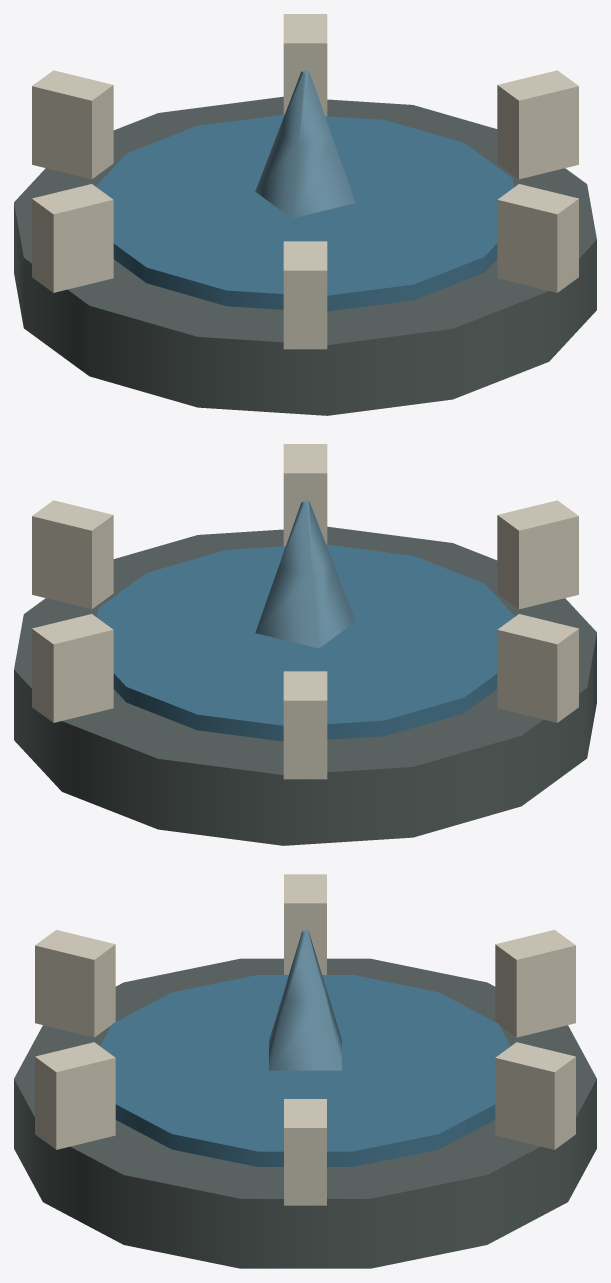
Rendered from node_ling_quan.glb.
3 renders of one model, top to bottom at view 1: azimuth 30°, elevation 25°; view 2: azimuth 150°, elevation 25°; view 3: azimuth 270°, elevation 25°, orthographic.
Visible parts, largest first — view 1: _MeshInstance3D_322, _MeshInstance3D_323, _MeshInstance3D_330, _MeshInstance3D_325, _MeshInstance3D_327, _MeshInstance3D_324, _MeshInstance3D_328, _MeshInstance3D_326, _MeshInstance3D_329; view 2: _MeshInstance3D_322, _MeshInstance3D_323, _MeshInstance3D_330, _MeshInstance3D_327, _MeshInstance3D_329, _MeshInstance3D_324, _MeshInstance3D_326, _MeshInstance3D_328, _MeshInstance3D_325; view 3: _MeshInstance3D_322, _MeshInstance3D_323, _MeshInstance3D_325, _MeshInstance3D_329, _MeshInstance3D_326, _MeshInstance3D_328, _MeshInstance3D_330, _MeshInstance3D_324, _MeshInstance3D_327.
Part boxes in pixels (left/top/right/bottom): _MeshInstance3D_322: left=14, top=96, right=596, bottom=415; _MeshInstance3D_323: left=96, top=114, right=513, bottom=311; _MeshInstance3D_330: left=255, top=70, right=355, bottom=218; _MeshInstance3D_325: left=497, top=184, right=578, bottom=292; _MeshInstance3D_327: left=32, top=184, right=113, bottom=292; _MeshInstance3D_324: left=497, top=70, right=578, bottom=179; _MeshInstance3D_328: left=32, top=70, right=113, bottom=179; _MeshInstance3D_326: left=283, top=241, right=327, bottom=349; _MeshInstance3D_329: left=283, top=14, right=327, bottom=116; _MeshInstance3D_322: left=14, top=526, right=596, bottom=845; _MeshInstance3D_323: left=97, top=544, right=514, bottom=741; _MeshInstance3D_330: left=255, top=500, right=355, bottom=648; _MeshInstance3D_327: left=497, top=614, right=578, bottom=722; _MeshInstance3D_329: left=32, top=614, right=113, bottom=722; _MeshInstance3D_324: left=32, top=500, right=113, bottom=609; _MeshInstance3D_326: left=497, top=500, right=578, bottom=609; _MeshInstance3D_328: left=283, top=671, right=327, bottom=779; _MeshInstance3D_325: left=283, top=444, right=327, bottom=546; _MeshInstance3D_322: left=14, top=958, right=596, bottom=1268; _MeshInstance3D_323: left=100, top=975, right=510, bottom=1166; _MeshInstance3D_325: left=35, top=1042, right=115, bottom=1149; _MeshInstance3D_329: left=495, top=1042, right=575, bottom=1149; _MeshInstance3D_326: left=35, top=930, right=115, bottom=1037; _MeshInstance3D_328: left=495, top=930, right=575, bottom=1037; _MeshInstance3D_330: left=269, top=930, right=341, bottom=1070; _MeshInstance3D_324: left=284, top=1099, right=326, bottom=1205; _MeshInstance3D_327: left=284, top=874, right=326, bottom=974.
Bounding box in the file's own units: 0.7 × 0.28 × 0.68.
